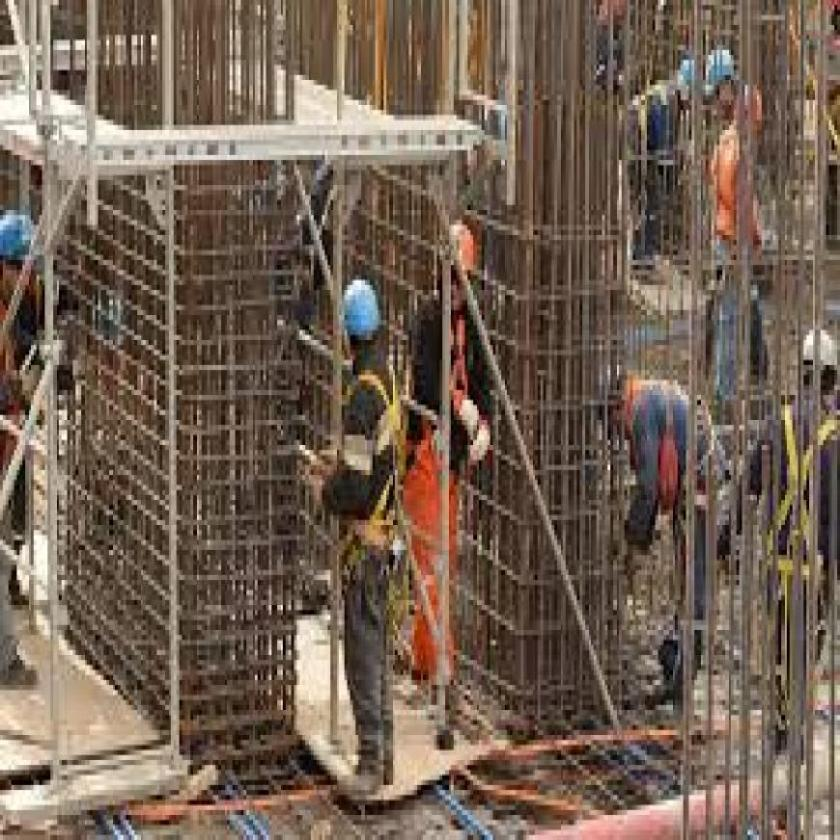Con_casco: (332, 273, 382, 378)
